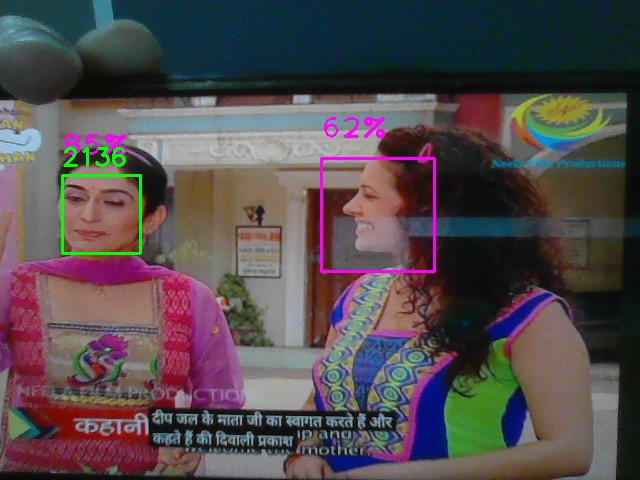fake: (62, 175, 141, 254)
